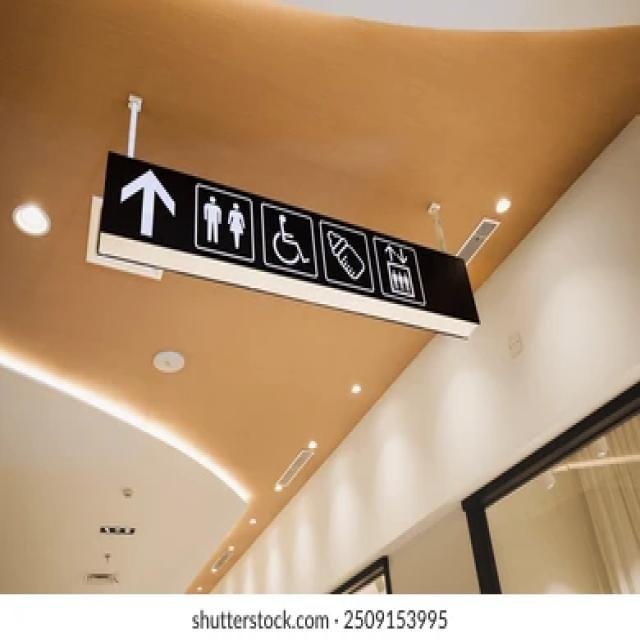lift_icon: (375, 236, 420, 308)
toilet_icon: (198, 183, 312, 275)
